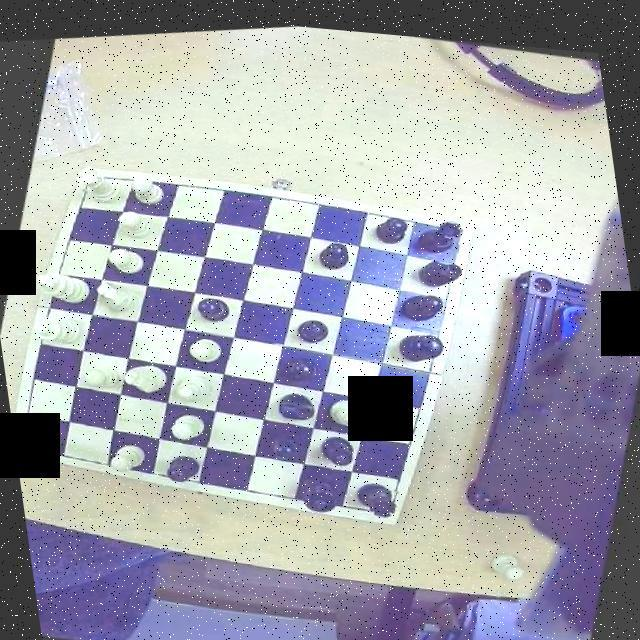chess-table-corners: (362, 476, 405, 520), (431, 208, 474, 251), (12, 422, 48, 461), (74, 162, 112, 196)
